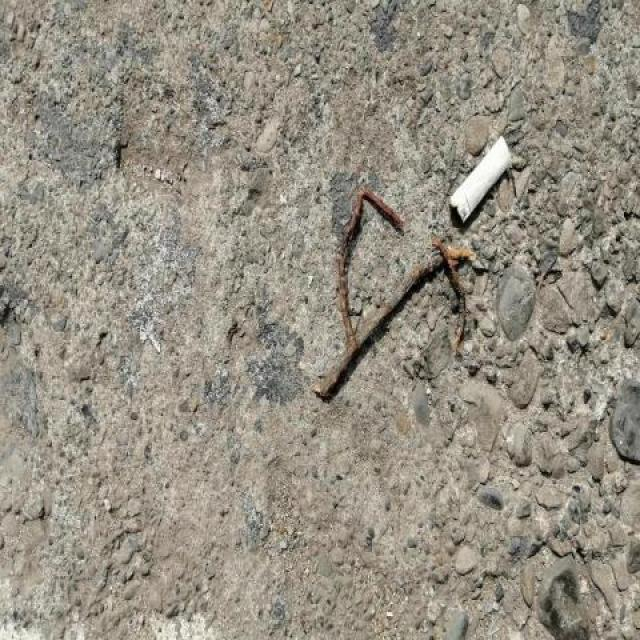non-organic waste: (442, 129, 517, 231)
